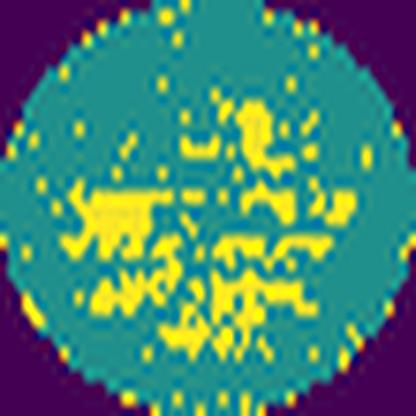Loc: (158, 276, 326, 362), (81, 232, 191, 321), (61, 179, 175, 261), (209, 230, 340, 273), (234, 97, 297, 175), (303, 172, 357, 228), (243, 176, 297, 228)
